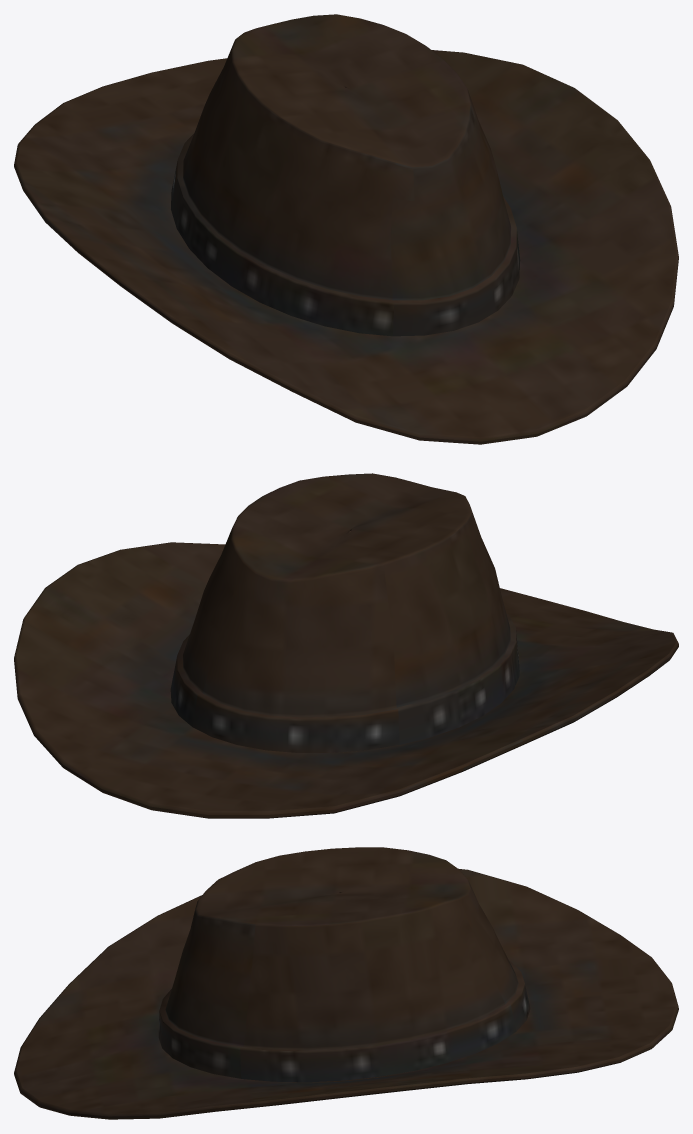
Rendered from cowboy_hat.glb.
3 views of the same model, one above another, from view 1: azimuth 30°, elevation 25°; view 2: azimuth 150°, elevation 25°; view 3: azimuth 270°, elevation 25° (orthographic). The views are drawn at different scales.
Visible parts, largest first — view 1: defaultMaterial; view 2: defaultMaterial; view 3: defaultMaterial.
Boxes of the visible parts, x1,y1,x2,y2 form: defaultMaterial: (14,14,678,444); defaultMaterial: (14,473,678,818); defaultMaterial: (14,847,678,1119).
Bounding box in the file's own units: 0.9978 × 0.4 × 1.24.
1 material, 1 textured.
